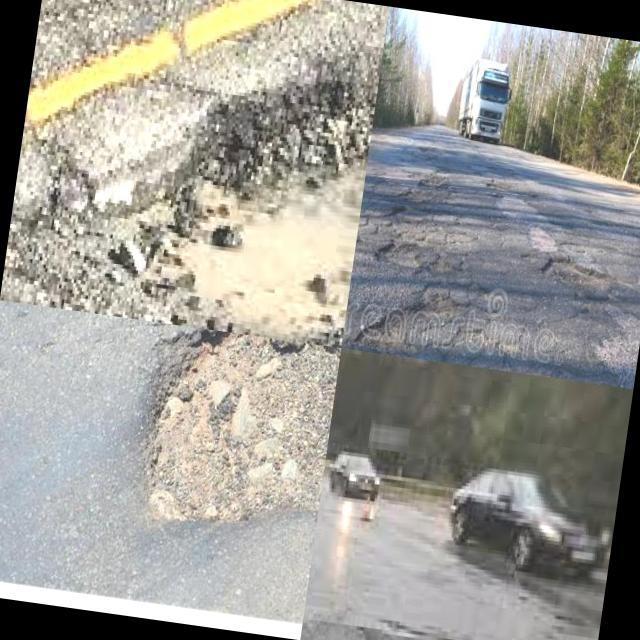Pothole: (173, 80, 377, 335), (152, 330, 340, 519)
